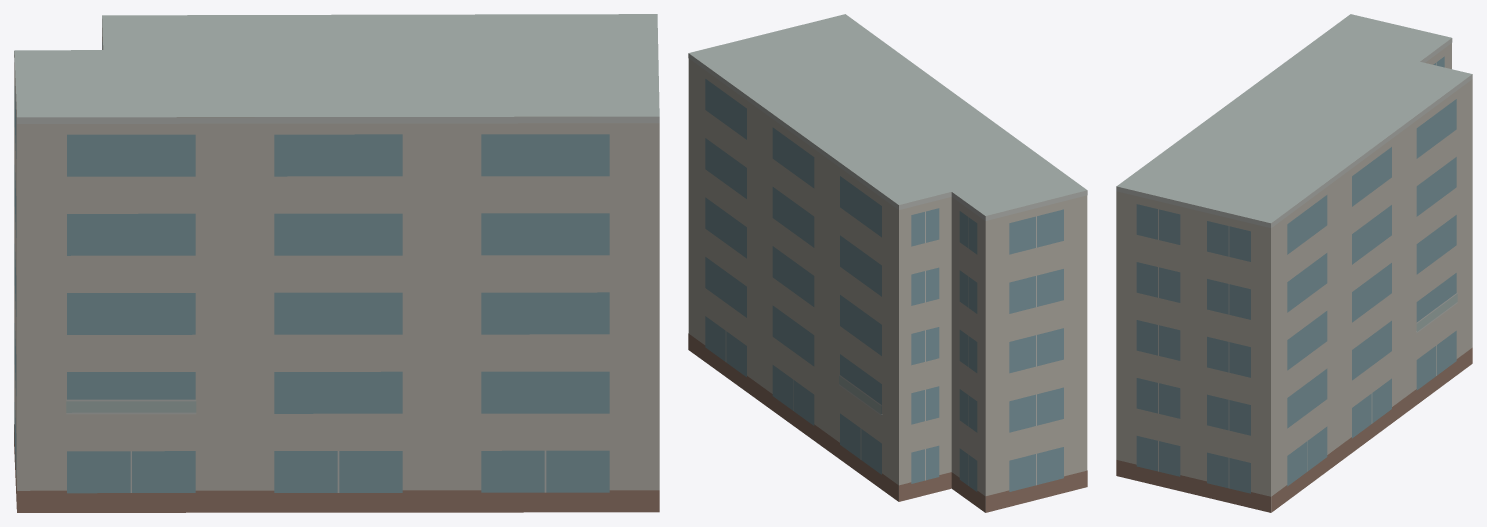
Rendered from survey-upis-32644451.glb.
3 renders of one model, left to right at view 1: azimuth 30°, elevation 25°; view 2: azimuth 150°, elevation 25°; view 3: azimuth 270°, elevation 25°, orthographic. The views are drawn at different scales.
Parts seen in each view (by area): view 1: survey-upis-32644451.tmp; view 2: survey-upis-32644451.tmp; view 3: survey-upis-32644451.tmp.
Boxes of the visible parts, box(x1,y1,x2,y2) form: survey-upis-32644451.tmp: box(14, 14, 659, 512); survey-upis-32644451.tmp: box(688, 14, 1087, 512); survey-upis-32644451.tmp: box(1116, 14, 1472, 512).
Size of the model in its own units: 22.34 by 14.4 by 16.06.
